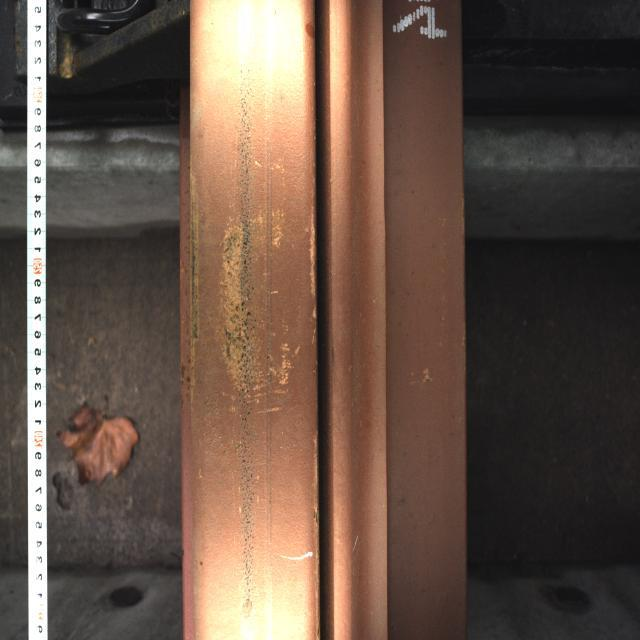scar: (190, 61, 318, 429)
